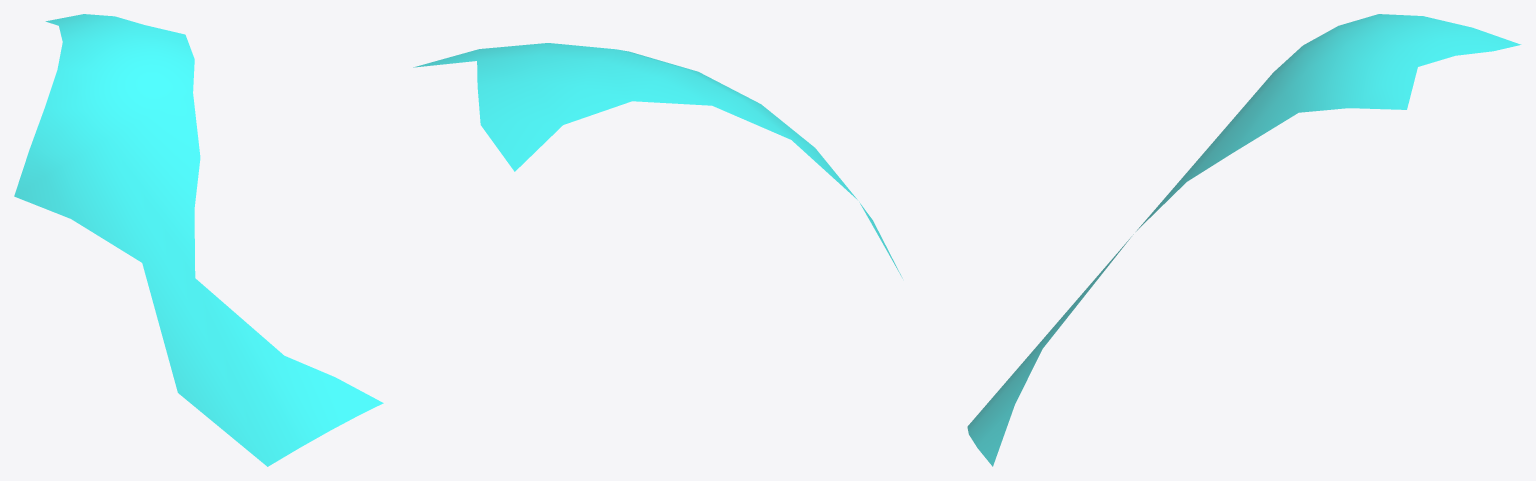
The model's file is firstFrame5.glb.
3 views of the same model, side by side, from view 1: azimuth 30°, elevation 25°; view 2: azimuth 150°, elevation 25°; view 3: azimuth 270°, elevation 25° (orthographic). The views are drawn at different scales.
Visible parts, largest first — view 1: pasted__asdfasdfasdf; view 2: pasted__asdfasdfasdf; view 3: pasted__asdfasdfasdf.
Boxes of the visible parts, x1,y1,x2,y2 form: pasted__asdfasdfasdf: [14, 14, 383, 466]; pasted__asdfasdfasdf: [413, 43, 902, 278]; pasted__asdfasdfasdf: [967, 14, 1521, 466].
Bounding box in the file's own units: 0.3066 × 0.3664 × 0.4656.
